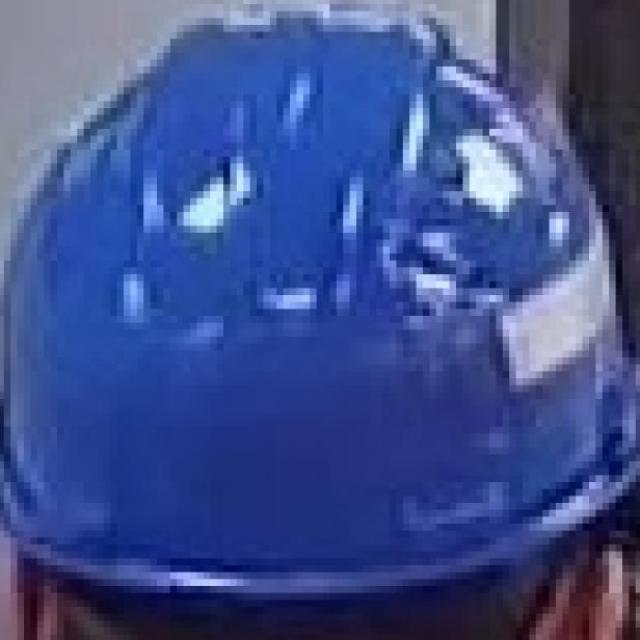helmet: (1, 0, 640, 608)
